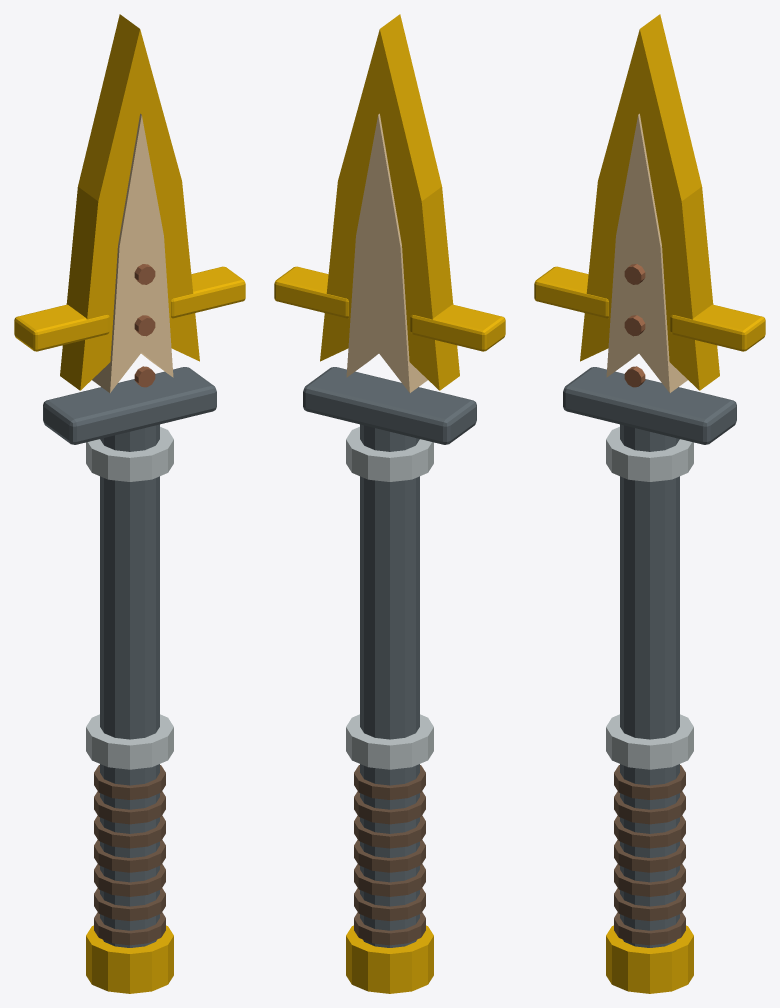
The model's file is ArcPike.fbx.
3 views of the same model, side by side, from view 1: azimuth 30°, elevation 25°; view 2: azimuth 150°, elevation 25°; view 3: azimuth 330°, elevation 25° (orthographic).
Parts seen in each view (by area): view 1: Silhouette.013, Manche.013, Noyau.013, Garde.013, Pommeau.013, Collier.026, Ailette.006, Collier.027, Ailette.007, Bande_06.013, Bande_04.013, Bande_00.013 (+4 smaller); view 2: Silhouette.013, Manche.013, Noyau.013, Garde.013, Pommeau.013, Collier.026, Ailette.006, Collier.027, Ailette.007, Bande_06.013, Bande_04.013, Bande_00.013 (+4 smaller); view 3: Silhouette.013, Manche.013, Noyau.013, Garde.013, Pommeau.013, Collier.026, Ailette.007, Collier.027, Ailette.006, Bande_06.013, Bande_04.013, Bande_00.013 (+4 smaller).
Boxes of the visible parts, box(x1,y1,x2,y2) form: Silhouette.013: box(60, 14, 199, 390); Manche.013: box(100, 424, 159, 947); Noyau.013: box(92, 113, 173, 392); Garde.013: box(43, 367, 216, 444); Pommeau.013: box(86, 925, 173, 993); Collier.026: box(86, 714, 173, 769); Ailette.006: box(14, 304, 109, 351); Collier.027: box(86, 427, 173, 481); Ailette.007: box(171, 266, 245, 318); Bande_06.013: box(94, 765, 165, 799); Bande_04.013: box(94, 815, 165, 848); Bande_00.013: box(94, 912, 165, 945); Silhouette.013: box(320, 14, 459, 390); Manche.013: box(360, 424, 419, 947); Noyau.013: box(346, 113, 427, 392); Garde.013: box(303, 367, 476, 444); Pommeau.013: box(346, 925, 433, 993); Collier.026: box(346, 714, 433, 769); Ailette.006: box(410, 304, 505, 351); Collier.027: box(346, 427, 433, 481); Ailette.007: box(274, 266, 348, 318); Bande_06.013: box(354, 765, 425, 799); Bande_04.013: box(354, 815, 425, 848); Bande_00.013: box(354, 912, 425, 945); Silhouette.013: box(580, 14, 719, 390); Manche.013: box(620, 424, 679, 947); Noyau.013: box(606, 113, 687, 392); Garde.013: box(563, 367, 736, 444); Pommeau.013: box(606, 925, 693, 993); Collier.026: box(606, 714, 693, 769); Ailette.007: box(670, 304, 765, 351); Collier.027: box(606, 427, 693, 481); Ailette.006: box(534, 266, 608, 318); Bande_06.013: box(614, 765, 685, 799); Bande_04.013: box(614, 815, 685, 848); Bande_00.013: box(614, 912, 685, 945).
Size of the model in its own units: 78 by 335 by 28.
